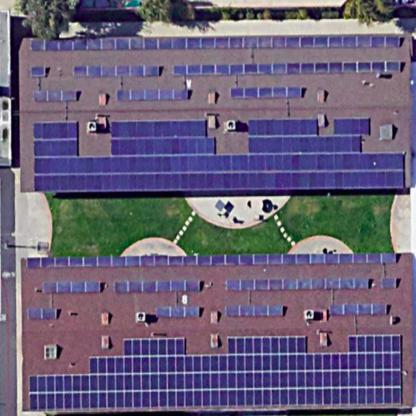solar_panel: (26, 115, 410, 208), (27, 329, 406, 416), (19, 247, 407, 324), (20, 31, 414, 105)
